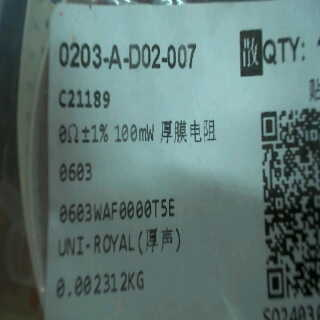0R: (57, 118, 156, 181)
